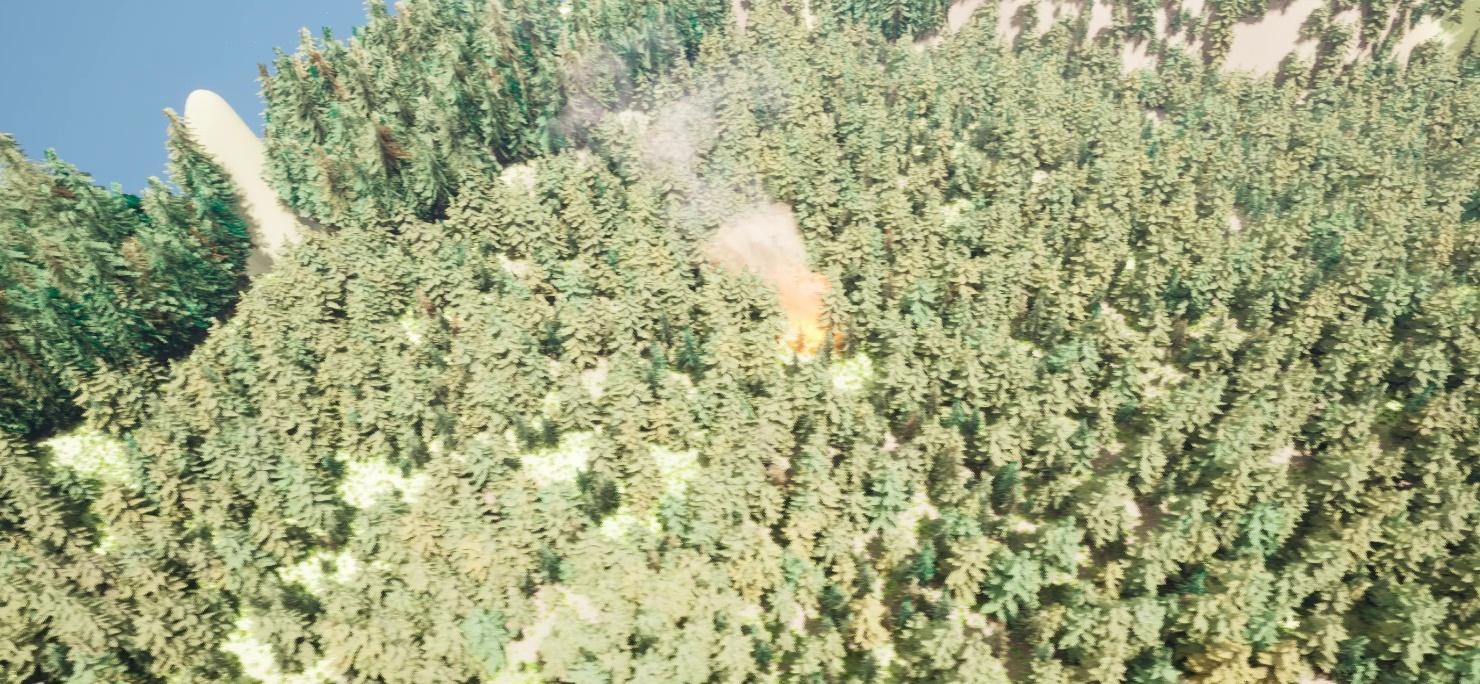fire: (775, 324, 841, 360)
smoke: (567, 63, 841, 319)
